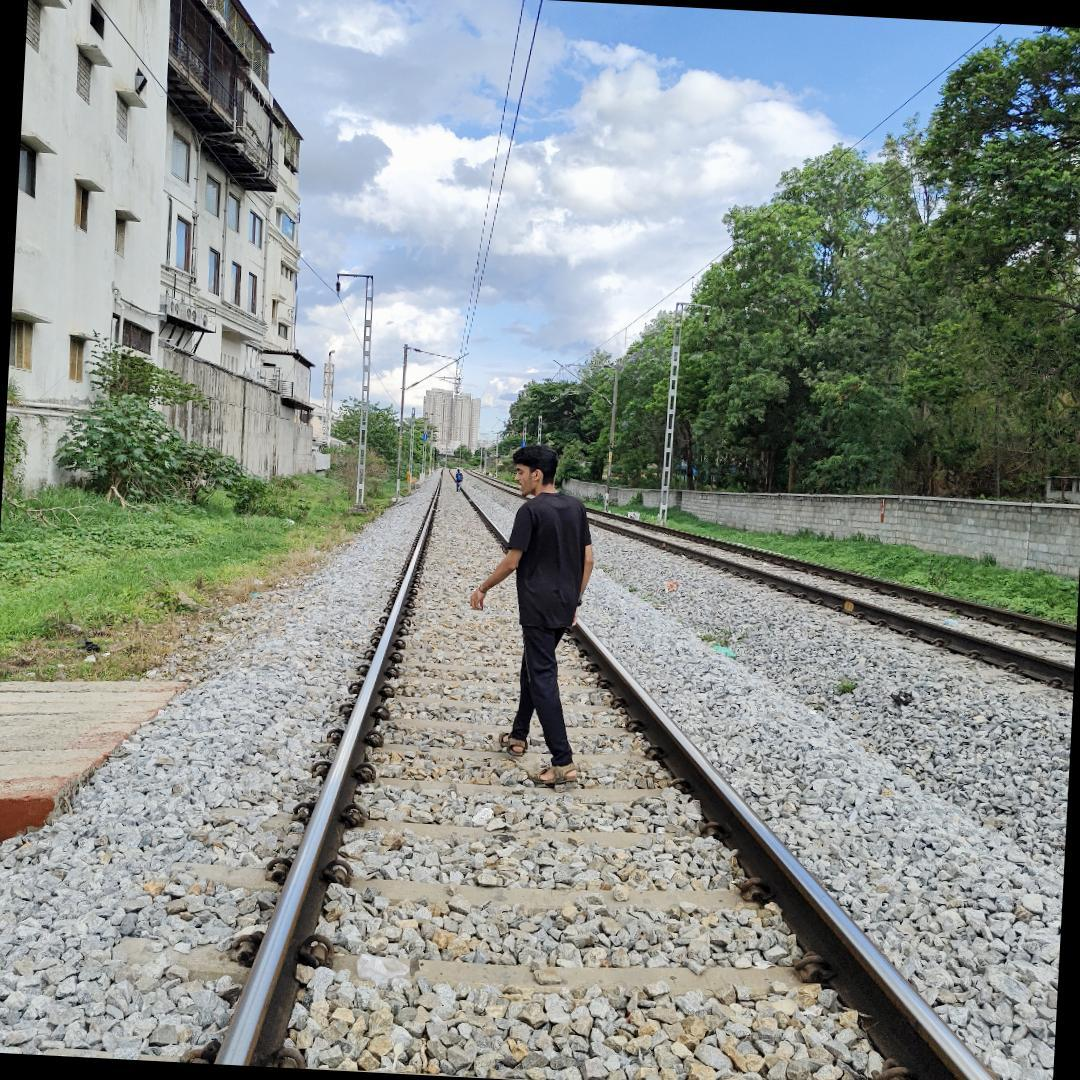standing: (462, 433, 601, 792)
